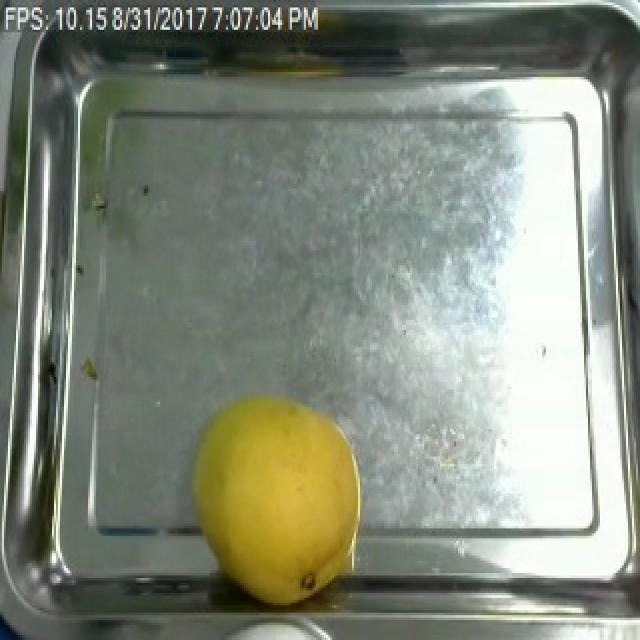fruit: (174, 385, 374, 615)
